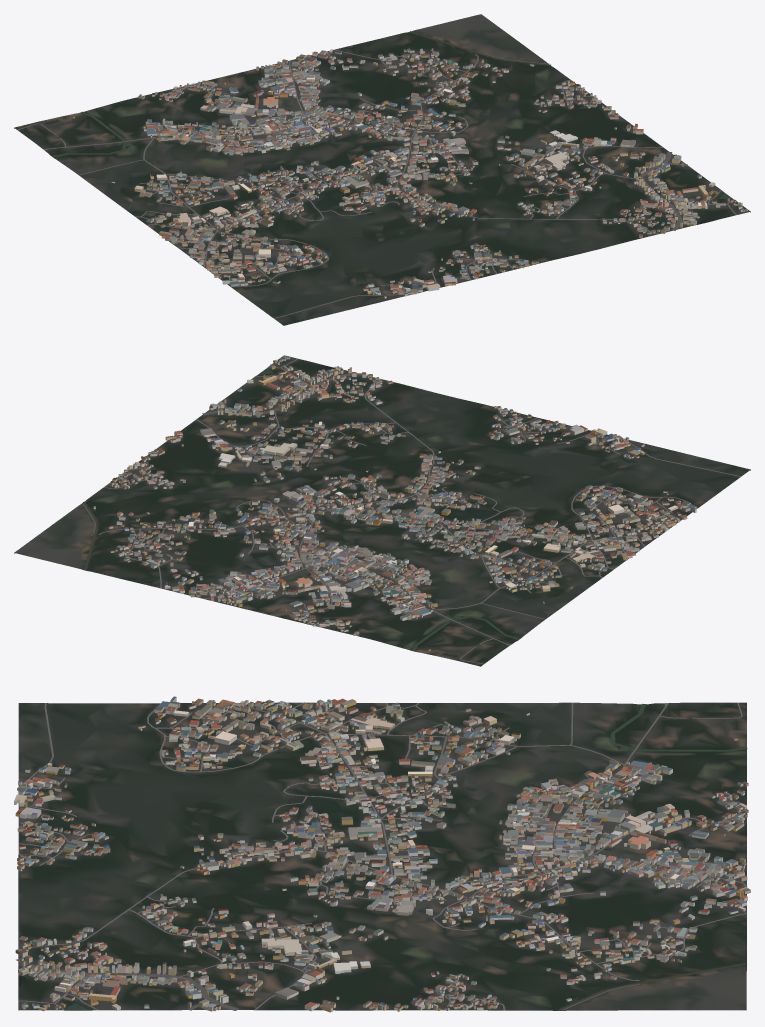
3 views of the same model, one above another, from view 1: azimuth 30°, elevation 25°; view 2: azimuth 150°, elevation 25°; view 3: azimuth 270°, elevation 25° (orthographic). The views are drawn at different scales.
Visible parts, largest first — view 1: ground, buildings, roads, water; view 2: ground, buildings, roads, water; view 3: ground, buildings, roads, water.
Part boxes in pixels (box(x1,y1,x2,y2)): ground: box(14, 14, 750, 325); buildings: box(72, 48, 747, 298); roads: box(17, 49, 737, 318); water: box(52, 31, 732, 223); ground: box(14, 355, 750, 666); buildings: box(93, 355, 696, 651); roads: box(82, 358, 740, 664); water: box(83, 364, 519, 651); ground: box(18, 702, 746, 1010); buildings: box(14, 696, 750, 1012); roads: box(16, 702, 747, 1010); water: box(19, 703, 747, 1010).
Size of the model in its own units: 1418 by 27.13 by 1418.
